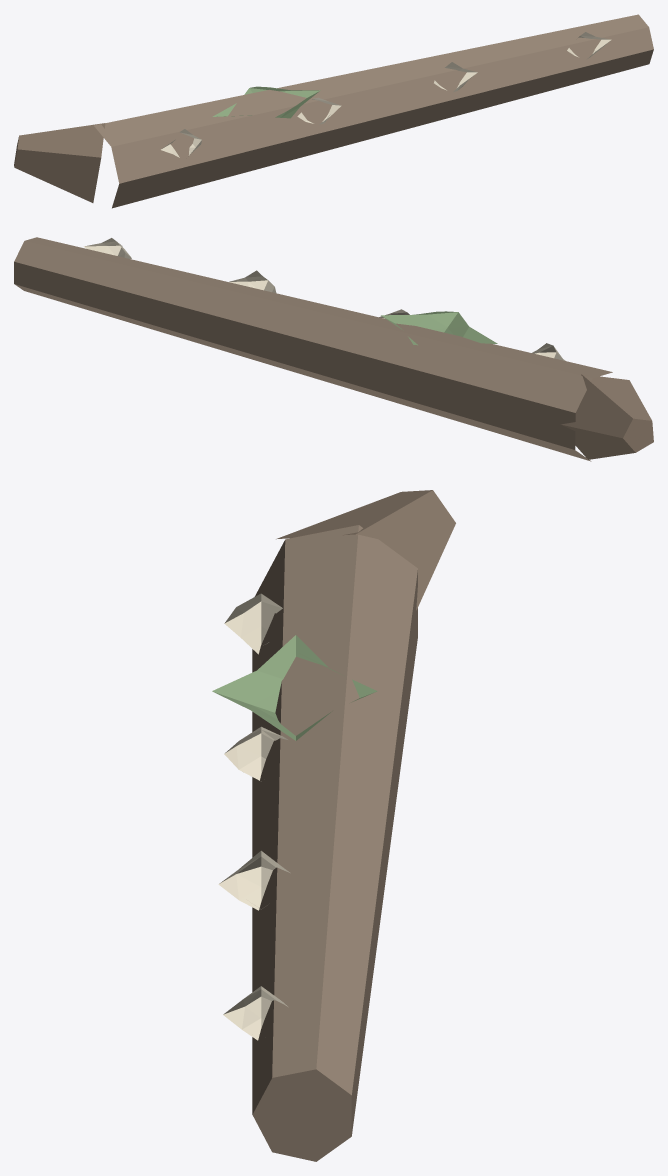
Rendered from log_v17.glb.
3 renders of one model, top to bottom at view 1: azimuth 30°, elevation 25°; view 2: azimuth 150°, elevation 25°; view 3: azimuth 270°, elevation 25°, orthographic. The views are drawn at different scales.
Parts seen in each view (by area): view 1: lod0; view 2: lod0; view 3: lod0.
Part boxes in pixels (x1,y1,x2,y2): lod0: (14,14,653,208); lod0: (14,237,653,461); lod0: (212,490,455,1161).
Size of what is drawn, in the model's own units: 3.84 by 0.5331 by 0.6735.
